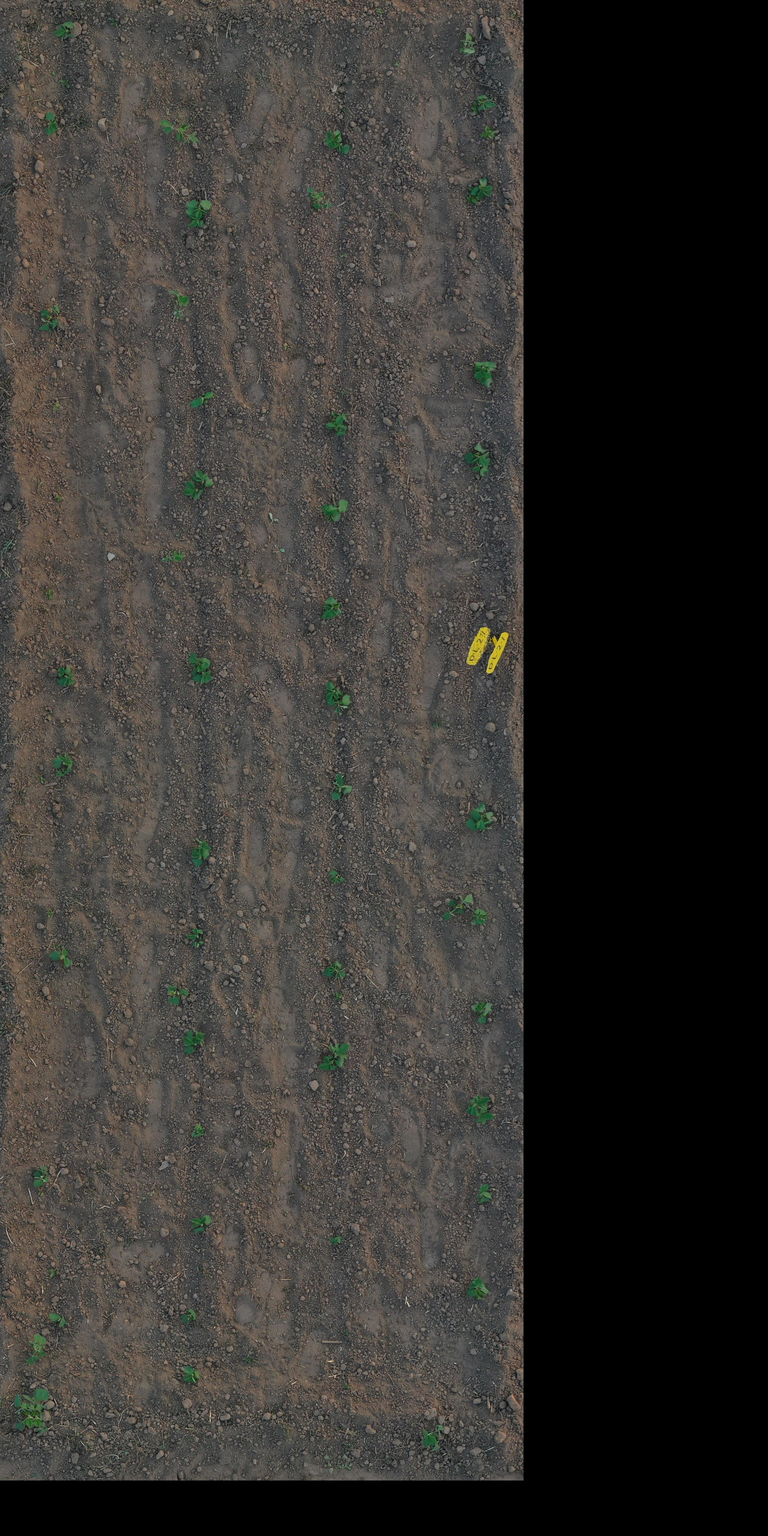s: (14, 1388, 50, 1432), (158, 119, 199, 146), (443, 894, 474, 922), (464, 443, 491, 468), (27, 1333, 47, 1365), (38, 304, 60, 333), (168, 289, 189, 319), (331, 773, 353, 801), (465, 809, 493, 831), (422, 1424, 444, 1451), (474, 802, 494, 831), (188, 652, 211, 676), (326, 693, 351, 715), (185, 200, 212, 220), (466, 1276, 489, 1299), (192, 661, 214, 685), (470, 177, 493, 199), (474, 361, 496, 384), (471, 1002, 494, 1024), (467, 1094, 490, 1116), (322, 960, 346, 981), (48, 948, 72, 967), (332, 129, 350, 154), (182, 480, 204, 500), (325, 416, 347, 436), (182, 1034, 204, 1054), (191, 470, 214, 489), (190, 391, 214, 409), (32, 1165, 50, 1188), (327, 1042, 350, 1060), (330, 499, 348, 522), (54, 20, 74, 40), (191, 1215, 212, 1234), (458, 32, 476, 54), (321, 597, 338, 620), (318, 1056, 344, 1071), (185, 208, 204, 228), (325, 682, 343, 703), (323, 130, 341, 150), (480, 364, 495, 388), (44, 111, 58, 136), (194, 841, 212, 860), (320, 503, 339, 521), (476, 94, 496, 111), (476, 1107, 494, 1125), (476, 1184, 492, 1204), (52, 753, 73, 768), (162, 549, 186, 562), (471, 908, 488, 926), (472, 461, 490, 477), (322, 602, 342, 616), (312, 197, 333, 210), (167, 985, 180, 1006), (48, 1313, 66, 1328), (186, 1029, 206, 1042), (181, 1308, 197, 1324), (328, 870, 345, 885), (331, 411, 352, 423), (57, 673, 75, 687), (191, 848, 204, 867), (184, 1365, 200, 1380), (186, 928, 203, 942), (190, 1124, 204, 1138), (58, 664, 72, 677), (175, 988, 189, 1001), (312, 191, 324, 204), (183, 1373, 197, 1384), (56, 768, 73, 777), (306, 187, 318, 199), (330, 1235, 343, 1245), (192, 940, 205, 948)
